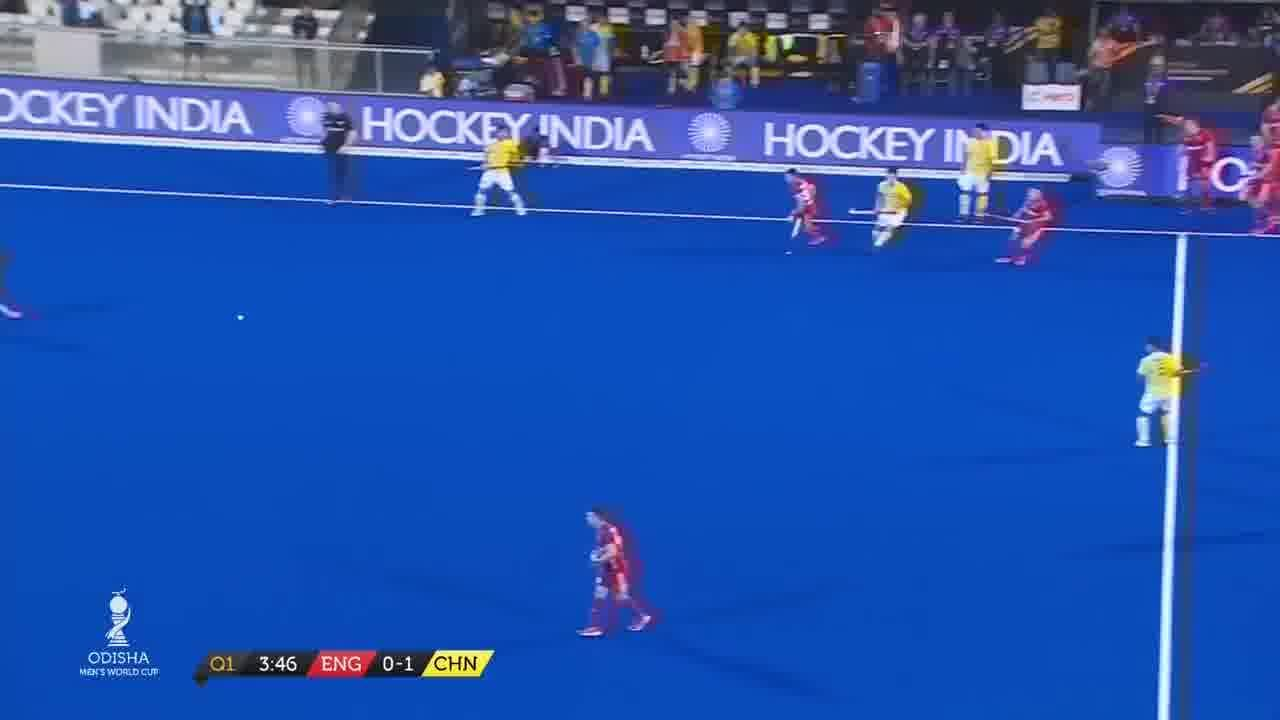ball: (226, 306, 256, 330)
